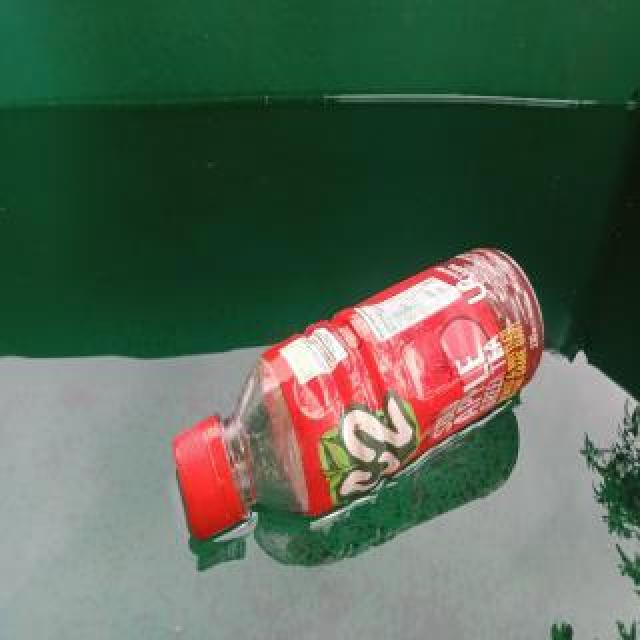bottle: (170, 246, 546, 540)
